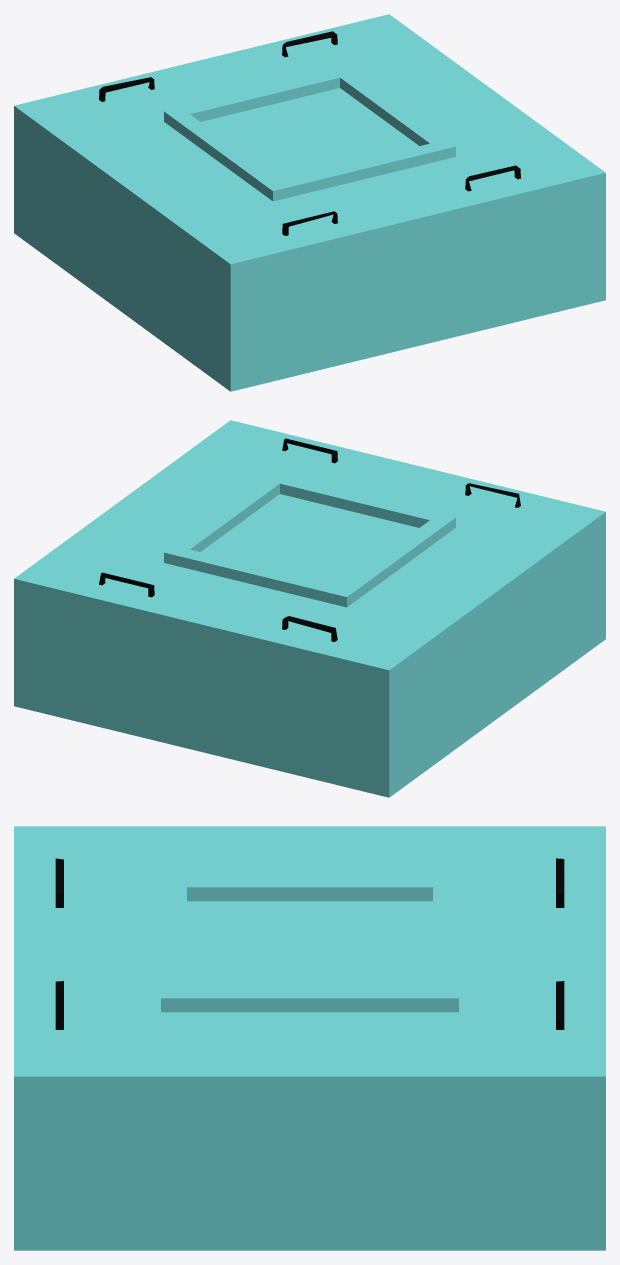
The model's file is detail-equipment-lite-4-3f.glb.
3 renders of one model, top to bottom at view 1: azimuth 30°, elevation 25°; view 2: azimuth 150°, elevation 25°; view 3: azimuth 270°, elevation 25°, orthographic. The views are drawn at different scales.
Bounding box in the file's own units: 1.14 × 0.4051 × 1.14.
